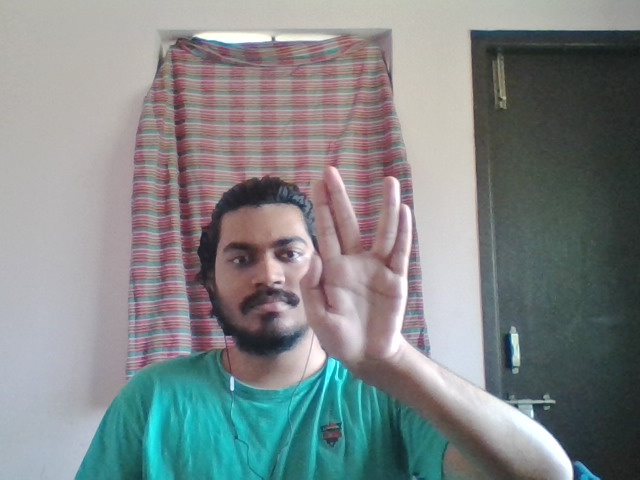LiveLong: (300, 166, 412, 361)
